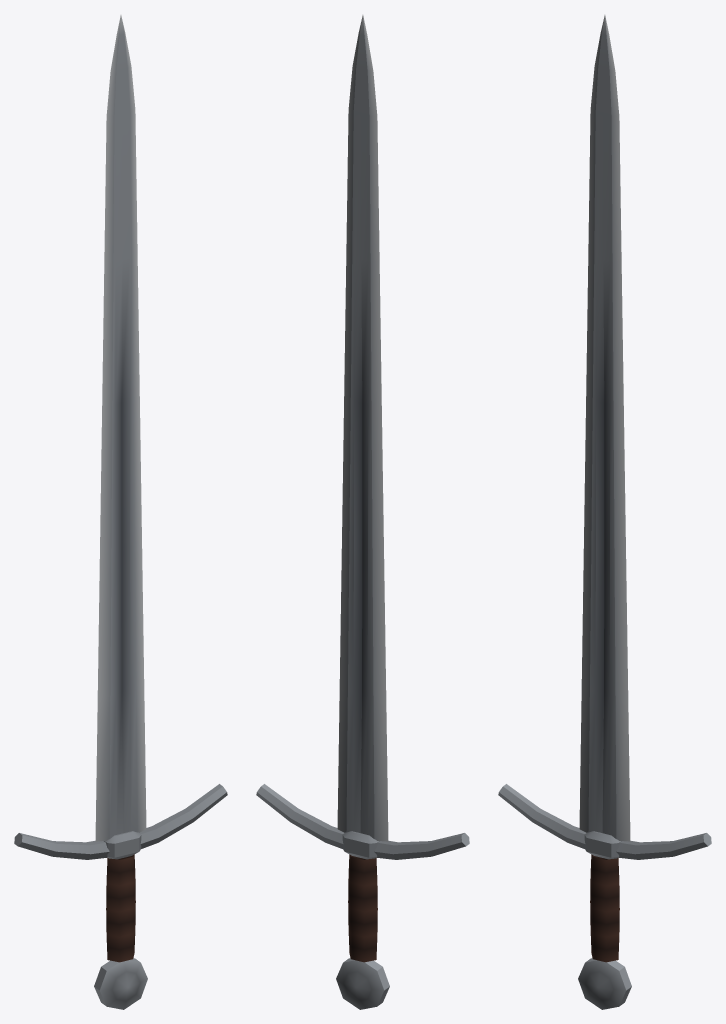
The model's file is sword_steel.glb.
3 renders of one model, left to right at view 1: azimuth 30°, elevation 25°; view 2: azimuth 150°, elevation 25°; view 3: azimuth 330°, elevation 25°, orthographic.
Visible parts, largest first — view 1: sword_steel; view 2: sword_steel; view 3: sword_steel.
Part boxes in pixels (bbox=[...]): sword_steel: bbox=[14, 15, 227, 1009]; sword_steel: bbox=[256, 15, 469, 1009]; sword_steel: bbox=[498, 15, 711, 1009].
Size of the model in its own units: 0.2209 by 0.9994 by 0.0257.
